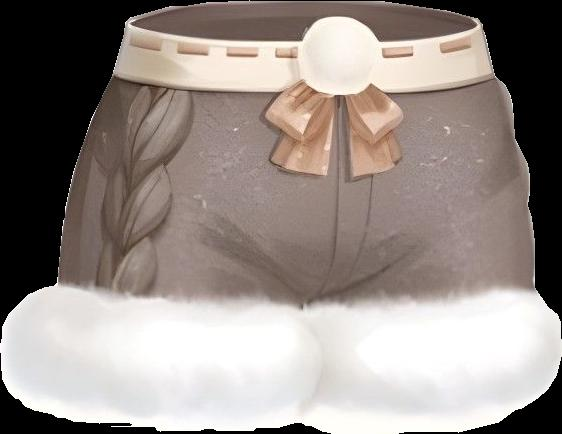Hemline: (4, 386, 304, 431), (300, 394, 544, 433)
Pantleg: (0, 1, 344, 430), (298, 1, 561, 433)
Waistline: (125, 21, 482, 46), (110, 72, 495, 95), (53, 280, 307, 312), (304, 287, 539, 311)
